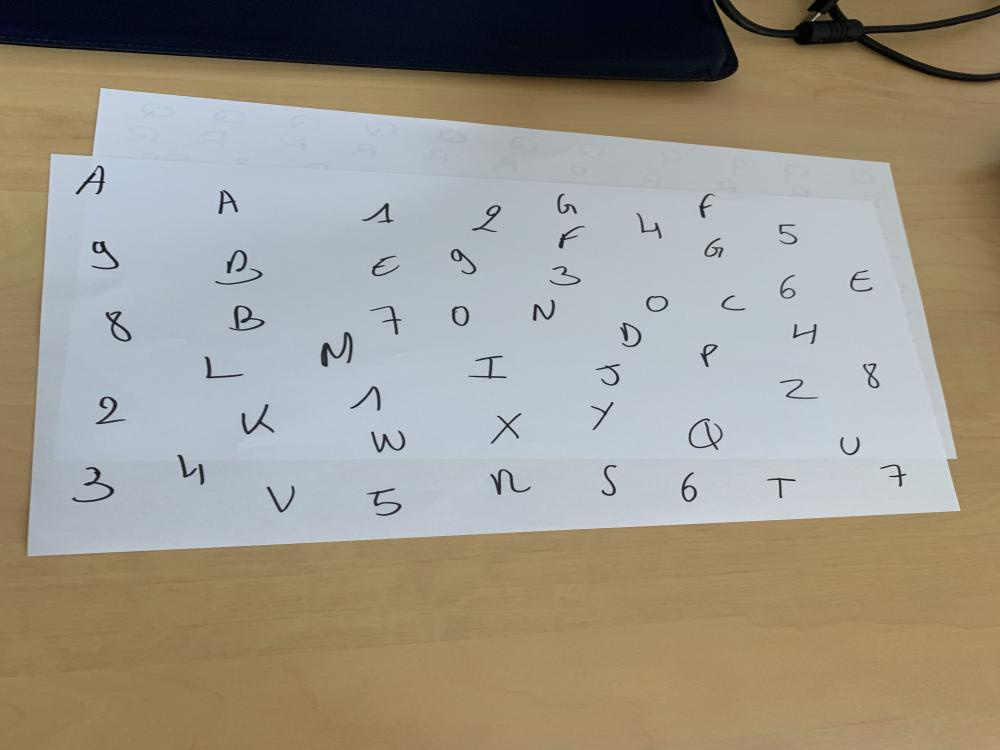0: (448, 303, 474, 328), (645, 294, 669, 314)
1: (350, 386, 386, 413), (359, 202, 396, 224)
2: (88, 394, 126, 425), (470, 204, 504, 234)
3: (72, 465, 115, 505), (549, 266, 583, 288)
4: (176, 453, 210, 487), (635, 210, 666, 241), (790, 322, 822, 347)
5: (366, 488, 404, 520), (778, 223, 800, 247)
6: (680, 472, 702, 505), (779, 274, 800, 300)
7: (368, 305, 406, 337), (876, 463, 910, 490), (876, 464, 910, 488)
8: (107, 310, 134, 345), (862, 362, 882, 390)
9: (85, 239, 122, 274), (444, 247, 480, 278)
A: (74, 164, 108, 198), (216, 187, 244, 216)
B: (212, 248, 266, 287), (228, 304, 266, 332)
C: (720, 294, 747, 313)
D: (616, 323, 645, 348)
E: (372, 252, 400, 280), (851, 269, 876, 294)
F: (558, 224, 588, 251), (700, 192, 718, 220)
G: (700, 236, 727, 259), (554, 194, 580, 216)
I: (468, 355, 508, 382)
J: (595, 360, 624, 390)
K: (237, 403, 280, 437)
L: (199, 356, 249, 381)
M: (316, 331, 357, 368)
N: (530, 298, 560, 322)
P: (698, 342, 720, 369)
Q: (684, 418, 725, 454)
R: (488, 468, 532, 498), (599, 463, 622, 500)
T: (766, 475, 800, 499)
U: (836, 434, 865, 456)
V: (260, 484, 299, 516)
W: (367, 428, 409, 454)
X: (490, 412, 526, 445)
Y: (588, 400, 619, 434)
Z: (780, 375, 820, 401)
